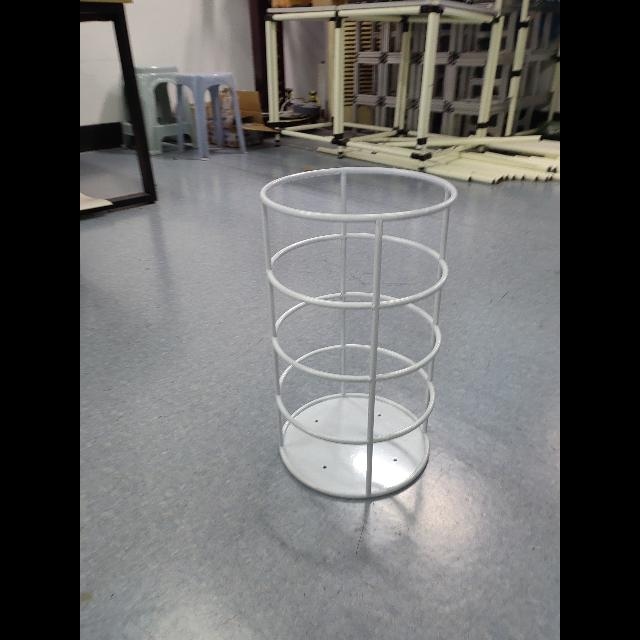S: (256, 164, 460, 504)
